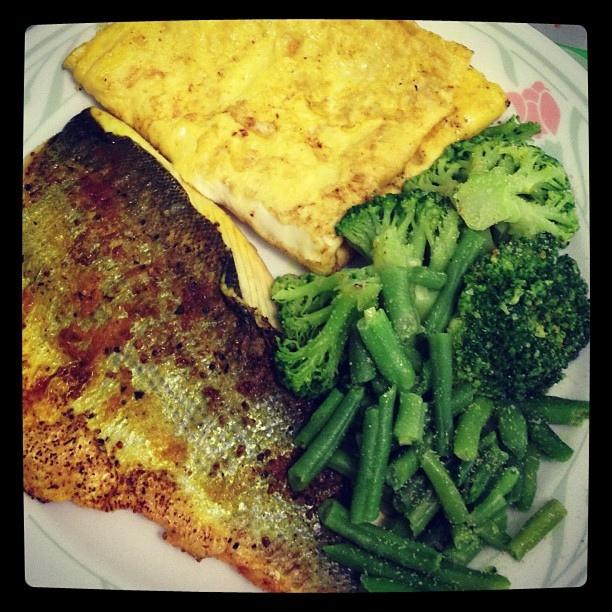broccoli: (446, 232, 590, 404), (401, 114, 580, 250), (335, 194, 444, 344), (269, 262, 382, 400), (417, 191, 465, 274)
green bean: (322, 501, 441, 575), (287, 385, 365, 491), (322, 544, 468, 592), (422, 230, 486, 336), (351, 382, 397, 524), (357, 306, 416, 394), (505, 498, 568, 564), (455, 436, 510, 505), (442, 509, 508, 566), (426, 333, 454, 456), (420, 456, 469, 524), (294, 388, 346, 449), (386, 429, 432, 490), (471, 468, 520, 523), (454, 395, 494, 460), (528, 408, 575, 462), (434, 562, 512, 590), (494, 400, 529, 462), (402, 486, 442, 538), (526, 396, 590, 427), (394, 393, 428, 444), (350, 322, 376, 384), (416, 508, 452, 552), (392, 475, 428, 513), (517, 456, 540, 511), (473, 519, 512, 551), (359, 574, 422, 593), (328, 449, 360, 484), (452, 381, 478, 418), (410, 356, 433, 396), (337, 432, 362, 462), (508, 467, 526, 504)
